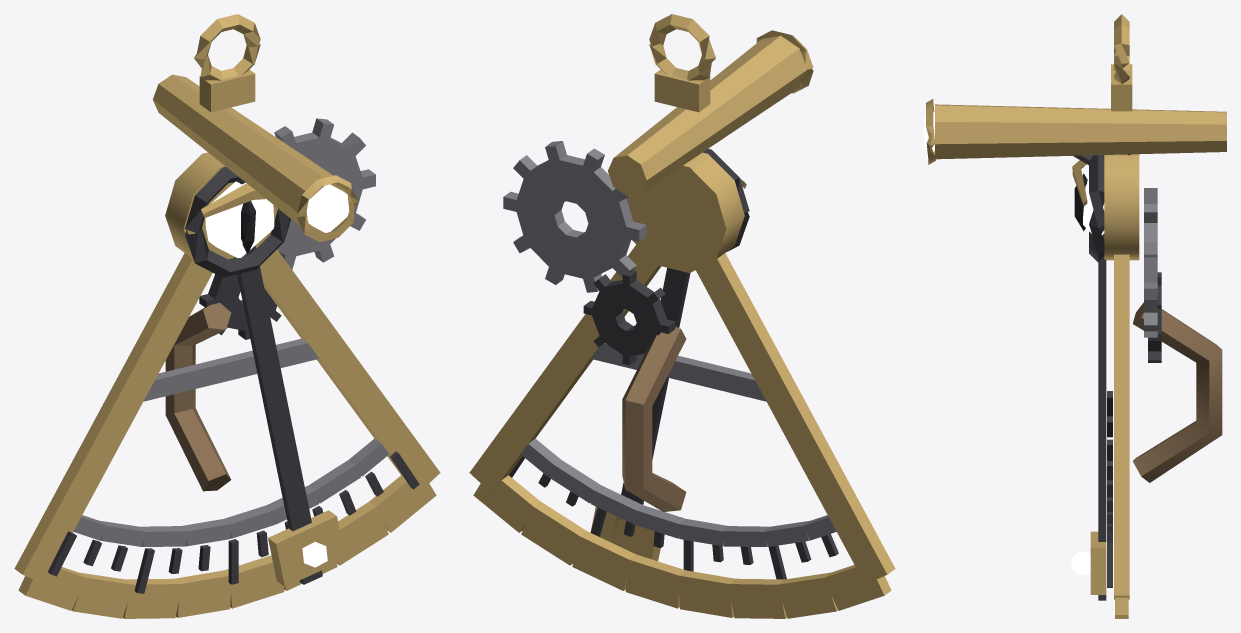
Rendered from astrolabe-rangefinder.glb.
3 renders of one model, left to right at view 1: azimuth 30°, elevation 25°; view 2: azimuth 150°, elevation 25°; view 3: azimuth 270°, elevation 25°, orthographic. The views are drawn at different scales.
Parts seen in each view (by area): view 1: astrolabe_rangefinder; view 2: astrolabe_rangefinder; view 3: astrolabe_rangefinder.
Boxes of the visible parts, x1,y1,x2,y2 form: astrolabe_rangefinder: (14, 14, 440, 618); astrolabe_rangefinder: (469, 14, 895, 618); astrolabe_rangefinder: (924, 14, 1226, 618).
Size of the model in its own units: 0.6199 by 0.8358 by 0.4087.
